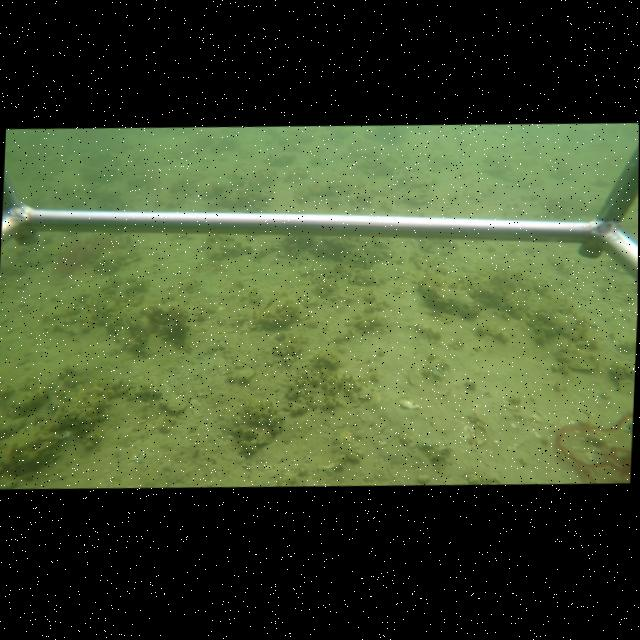Oyster-Indeterminate: (415, 283, 487, 319)
